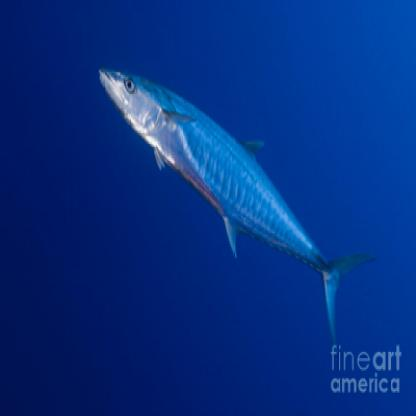Scombridae -Tunas-: (96, 64, 377, 347)
